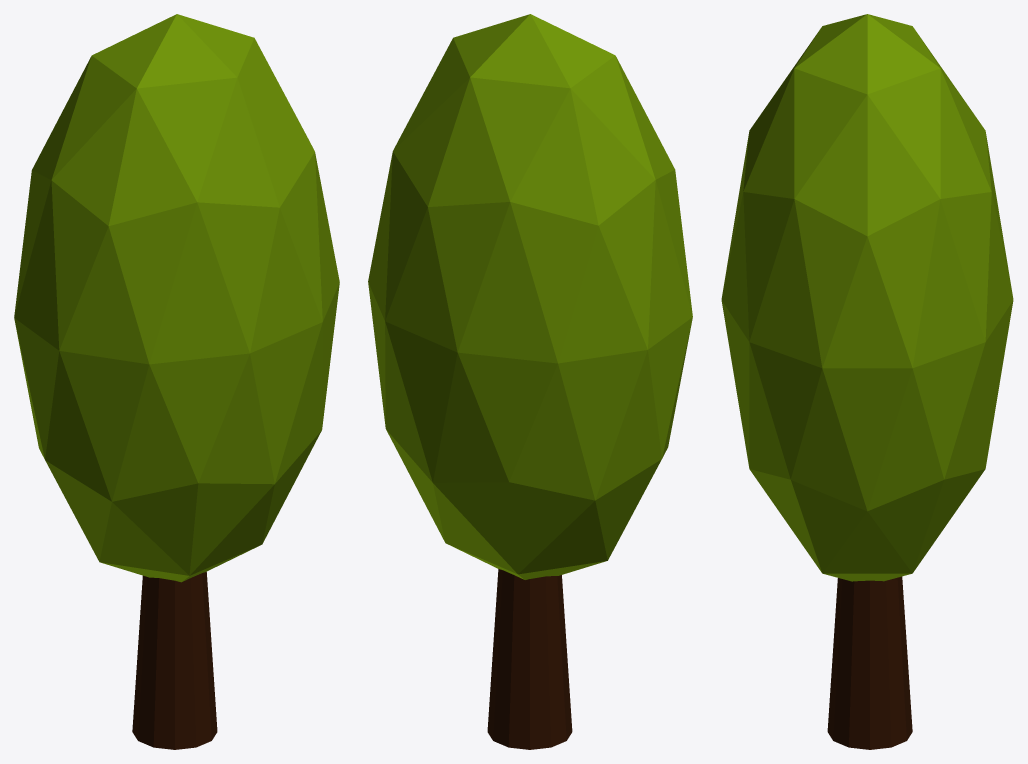
File: Tree5.fbx
3 renders of one model, left to right at view 1: azimuth 30°, elevation 25°; view 2: azimuth 150°, elevation 25°; view 3: azimuth 270°, elevation 25°, orthographic.
Parts seen in each view (by area): view 1: Icosphere.001; view 2: Icosphere.001; view 3: Icosphere.001.
Boxes of the visible parts, left/top/right/bottom form: Icosphere.001: left=14, top=14, right=339, bottom=749; Icosphere.001: left=368, top=14, right=692, bottom=749; Icosphere.001: left=721, top=14, right=1013, bottom=749.
Bounding box in the file's own units: 322 × 787 × 290.
